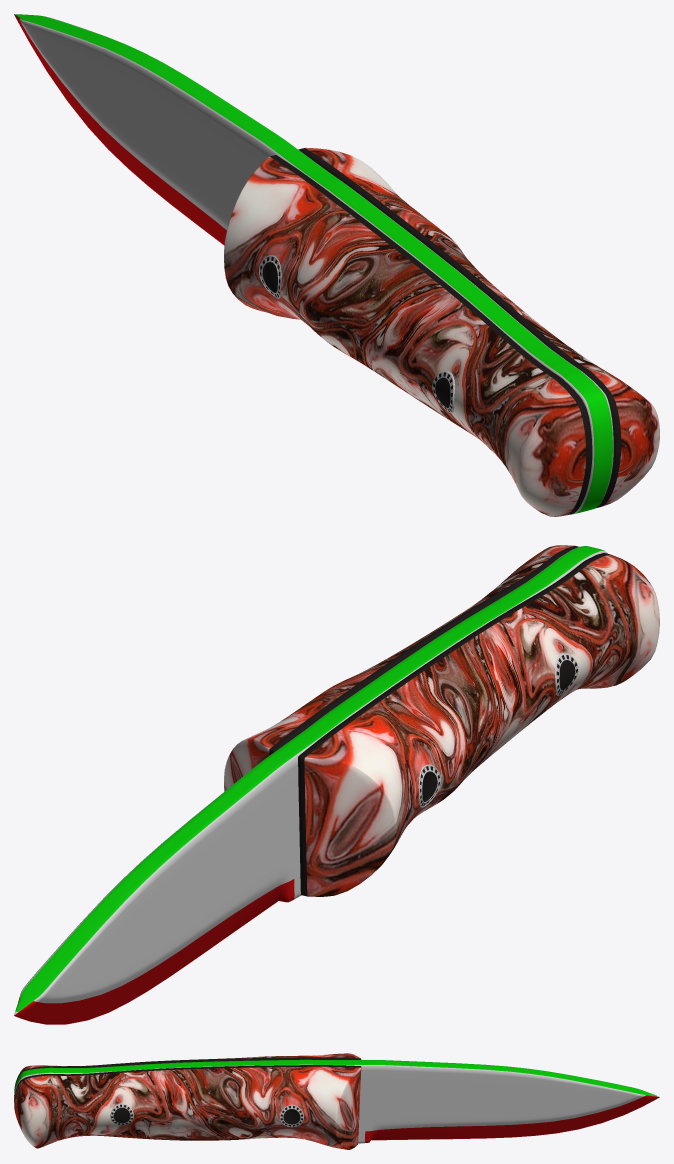
Rendered from knife.obj.
3 views of the same model, one above another, from view 1: azimuth 30°, elevation 25°; view 2: azimuth 150°, elevation 25°; view 3: azimuth 270°, elevation 25° (orthographic). The views are drawn at different scales.
Visible parts, largest first — view 1: grip3_Plane.001, blade_Cube, hole.003_Cylinder.009, Cylinder; view 2: grip3_Plane.001, blade_Cube, Cylinder, hole.003_Cylinder.009; view 3: grip3_Plane.001, blade_Cube, hole.001_Cylinder.002, Cylinder.002_Cylinder.006.
Boxes of the visible parts, x1=… form: grip3_Plane.001: x1=224, y1=147, x2=659, y2=516; blade_Cube: x1=14, y1=14, x2=613, y2=514; hole.003_Cylinder.009: x1=259, y1=255, x2=281, y2=298; Cylinder: x1=432, y1=370, x2=454, y2=413; grip3_Plane.001: x1=224, y1=545, x2=659, y2=896; blade_Cube: x1=14, y1=546, x2=607, y2=1024; Cylinder: x1=555, y1=653, x2=578, y2=695; hole.003_Cylinder.009: x1=418, y1=764, x2=441, y2=808; grip3_Plane.001: x1=14, y1=1053, x2=361, y2=1149; blade_Cube: x1=14, y1=1059, x2=659, y2=1143; hole.001_Cylinder.002: x1=279, y1=1105, x2=303, y2=1127; Cylinder.002_Cylinder.006: x1=110, y1=1103, x2=133, y2=1125.
Bounding box in the file's own units: 0.7055 × 0.5807 × 4.18.
Materials: 6 (2 with a texture image).
